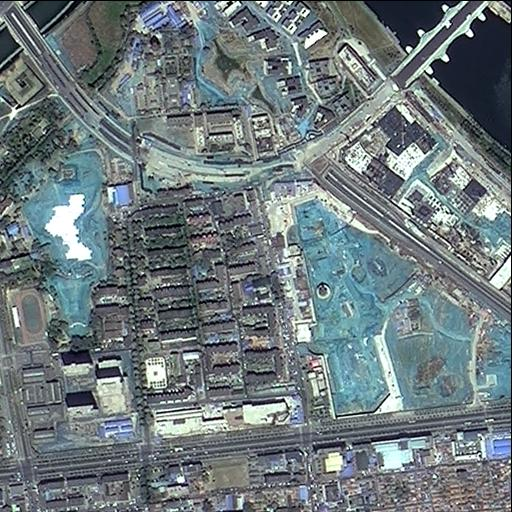school: (5, 280, 66, 451)
